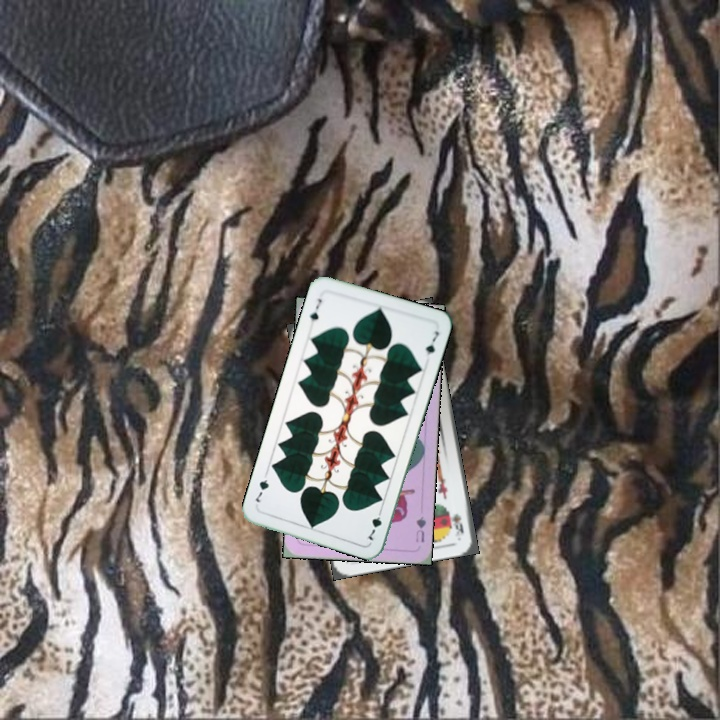G7: (363, 504, 385, 543), (305, 294, 325, 324)
GU: (412, 512, 429, 545)
SK: (448, 509, 466, 539)
